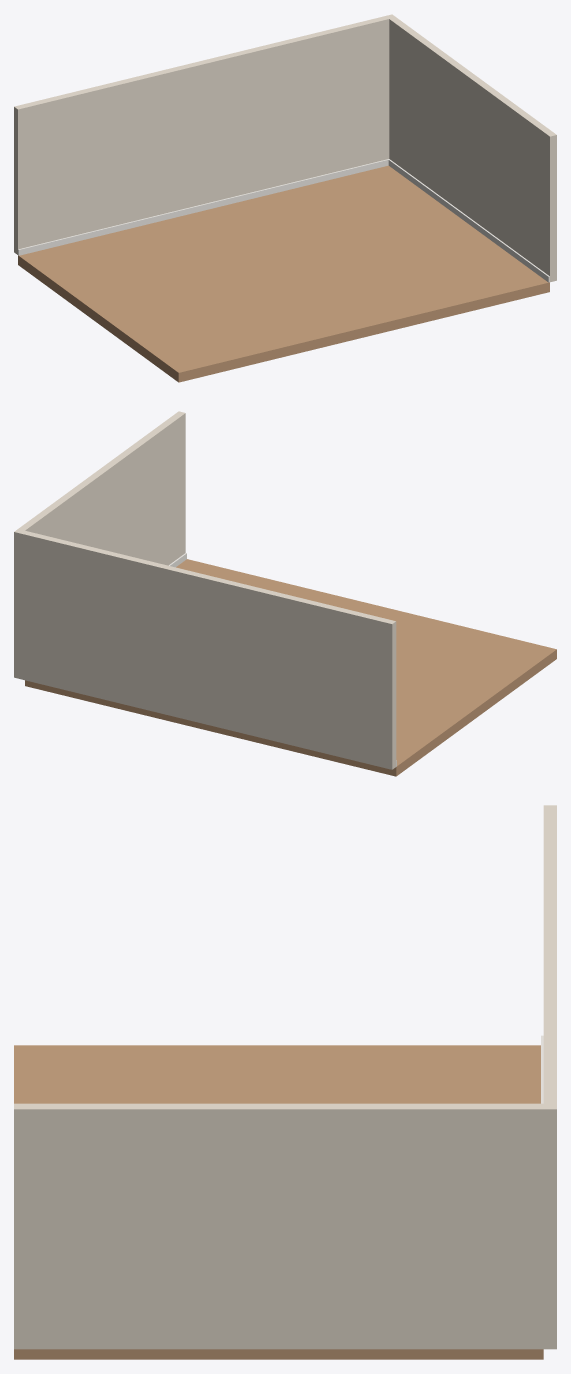
The model's file is room.glb.
3 views of the same model, one above another, from view 1: azimuth 30°, elevation 25°; view 2: azimuth 150°, elevation 25°; view 3: azimuth 270°, elevation 25° (orthographic). The views are drawn at different scales.
Parts seen in each view (by area): view 1: floor, wall_back_panel, wall_right_panel, wall_back_skirting, wall_right_skirting; view 2: wall_back_panel, floor, wall_right_panel; view 3: wall_right_panel, floor, wall_back_panel.
Part boxes in pixels (<box>): floor: <box>18,165,549,382</box>; wall_back_panel: <box>14,14,395,254</box>; wall_right_panel: <box>389,17,556,282</box>; wall_back_skirting: <box>18,159,389,255</box>; wall_right_skirting: <box>388,159,549,282</box>; wall_back_panel: <box>14,529,396,769</box>; floor: <box>25,559,556,776</box>; wall_right_panel: <box>18,411,185,565</box>; wall_right_panel: <box>14,1103,543,1349</box>; floor: <box>14,1045,543,1359</box>; wall_back_panel: <box>543,805,556,1349</box>.
Size of the model in its own units: 8.15 by 3.2 by 6.15.
